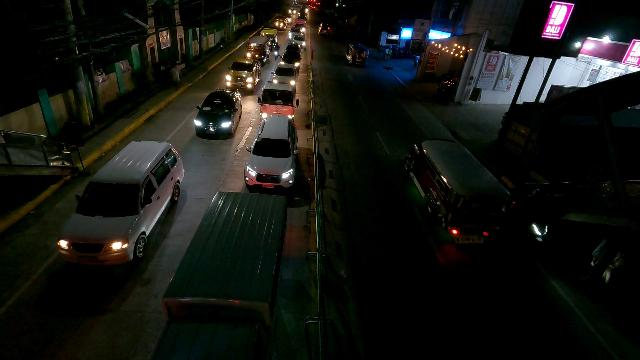car: (56, 138, 187, 266), (243, 113, 300, 191), (193, 86, 243, 138), (272, 63, 297, 88), (280, 48, 302, 71), (292, 33, 307, 50), (318, 23, 332, 35)
jeepney: (401, 138, 515, 241), (245, 35, 270, 64), (345, 43, 370, 68), (272, 15, 290, 30)
motorcycle: (272, 43, 282, 61)
truck: (258, 82, 299, 121), (224, 57, 261, 93)
